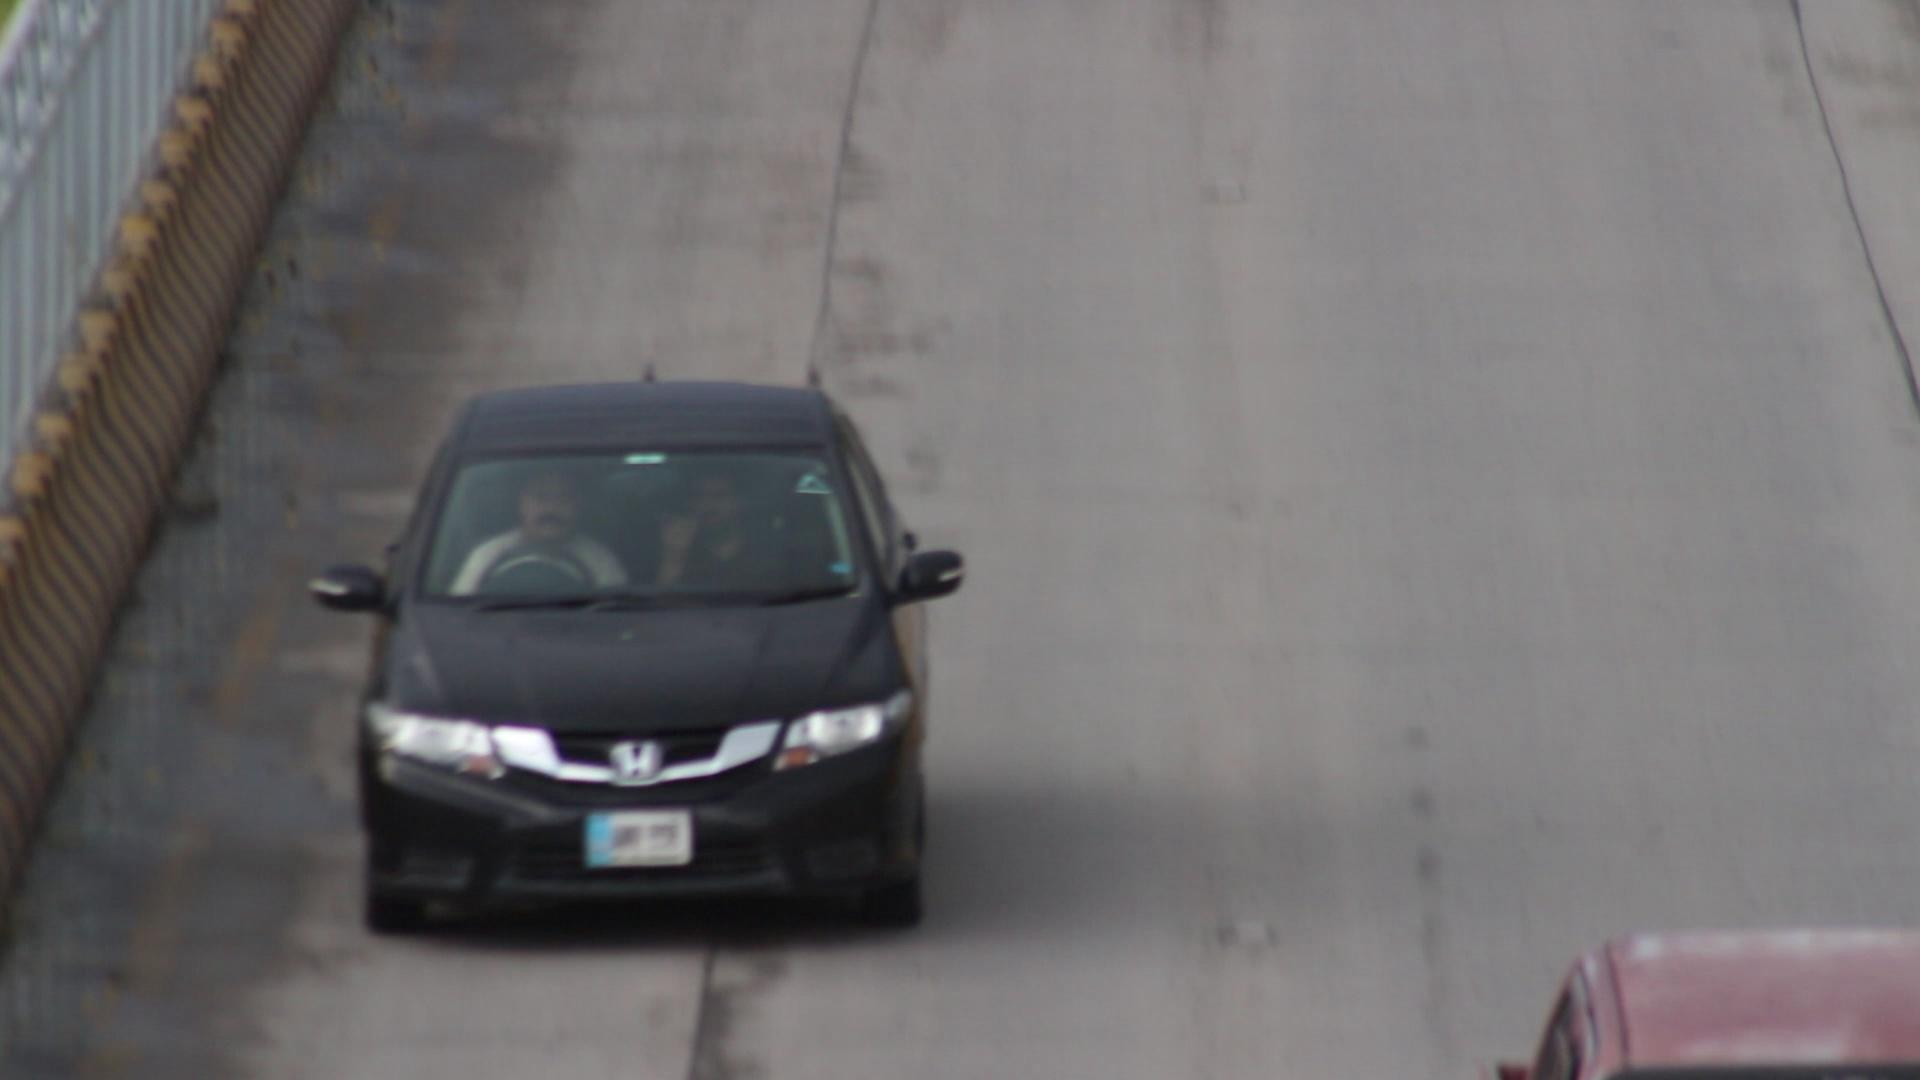windshield: (404, 436, 894, 617)
